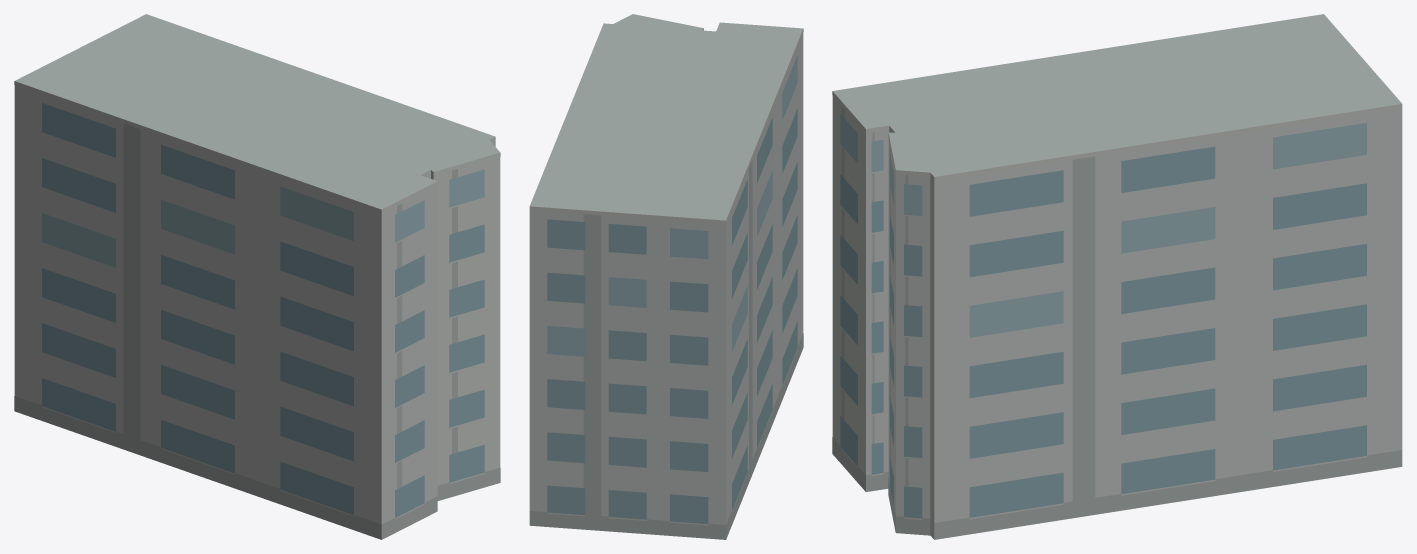
Rendered from survey-upis-32866015.glb.
The picture shows the model from 3 angles, left to right: view 1: azimuth 30°, elevation 25°; view 2: azimuth 150°, elevation 25°; view 3: azimuth 270°, elevation 25°; orthographic projection. The views are drawn at different scales.
Visible parts, largest first — view 1: survey-upis-32866015.tmp; view 2: survey-upis-32866015.tmp; view 3: survey-upis-32866015.tmp.
Part boxes in pixels (left/top/right/bottom): survey-upis-32866015.tmp: left=14, top=14, right=500, bottom=539; survey-upis-32866015.tmp: left=529, top=14, right=803, bottom=539; survey-upis-32866015.tmp: left=832, top=14, right=1402, bottom=539.
Bounding box in the file's own units: 19.18 × 19.9 × 28.33.
